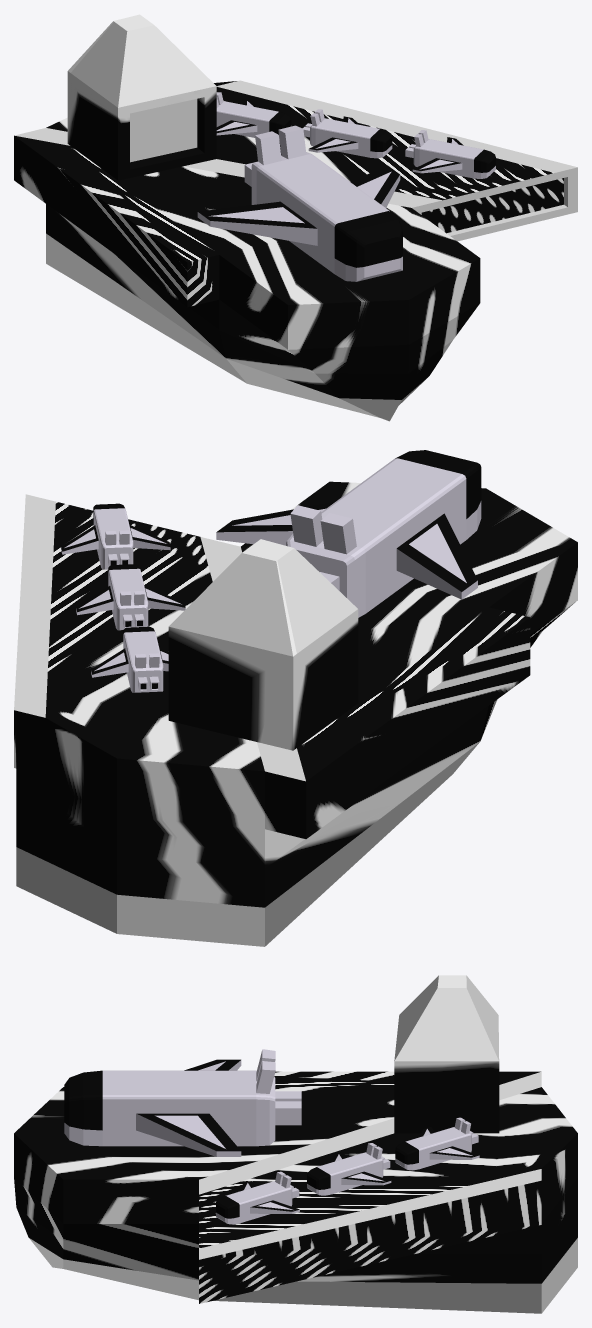
The model's file is BLACK_AirplaneCarrier.fbx.
3 renders of one model, top to bottom at view 1: azimuth 30°, elevation 25°; view 2: azimuth 150°, elevation 25°; view 3: azimuth 270°, elevation 25°, orthographic. The views are drawn at different scales.
Parts seen in each view (by area): view 1: Cube, Cube.001, Cube.003, Cube.004, Cube.002; view 2: Cube, Cube.001, Cube.003, Cube.004, Cube.002; view 3: Cube, Cube.001, Cube.003, Cube.002, Cube.004.
Part boxes in pixels (bbox=[...]): Cube: bbox=[14, 14, 577, 421]; Cube.001: bbox=[197, 125, 402, 281]; Cube.003: bbox=[302, 109, 392, 158]; Cube.004: bbox=[405, 130, 495, 178]; Cube.002: bbox=[216, 92, 291, 140]; Cube: bbox=[14, 481, 577, 946]; Cube.001: bbox=[216, 450, 481, 617]; Cube.003: bbox=[76, 564, 185, 630]; Cube.004: bbox=[61, 503, 170, 569]; Cube.002: bbox=[91, 626, 168, 692]; Cube: bbox=[14, 975, 577, 1313]; Cube.001: bbox=[64, 1049, 301, 1156]; Cube.003: bbox=[307, 1143, 391, 1195]; Cube.002: bbox=[395, 1117, 479, 1170]; Cube.004: bbox=[216, 1171, 299, 1224].
Size of the model in its own units: 558 by 359 by 706.
